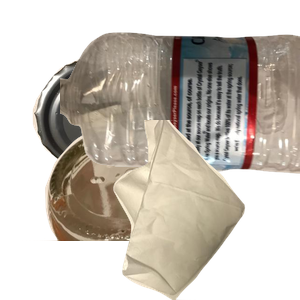glass: (22, 120, 233, 300)
metal: (30, 46, 205, 215)
plastic: (60, 30, 300, 196)
trash: (111, 120, 300, 300)
